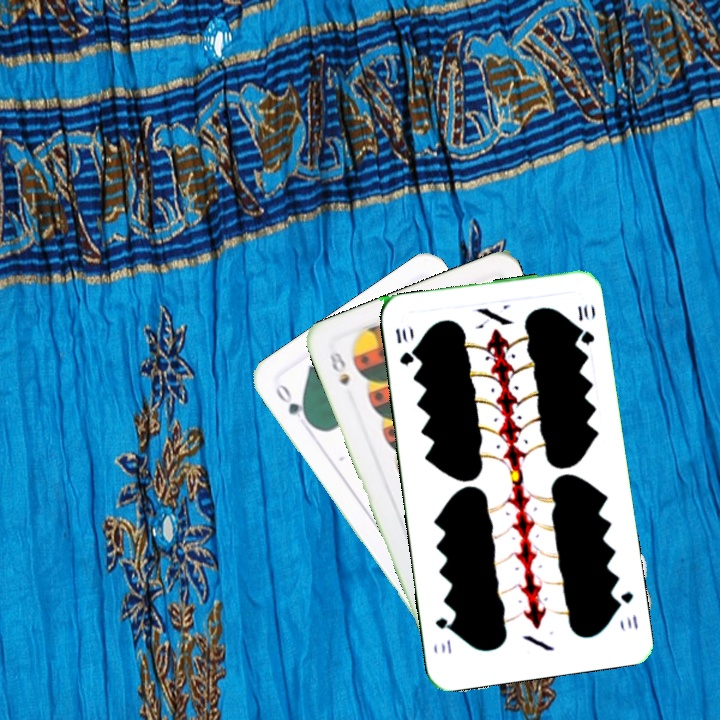G10: (611, 587, 641, 633), (391, 320, 416, 368)
GO: (271, 379, 315, 428)
S8: (325, 347, 353, 389)
